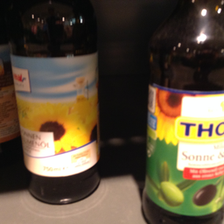oil: (7, 3, 101, 204), (140, 1, 224, 223)
